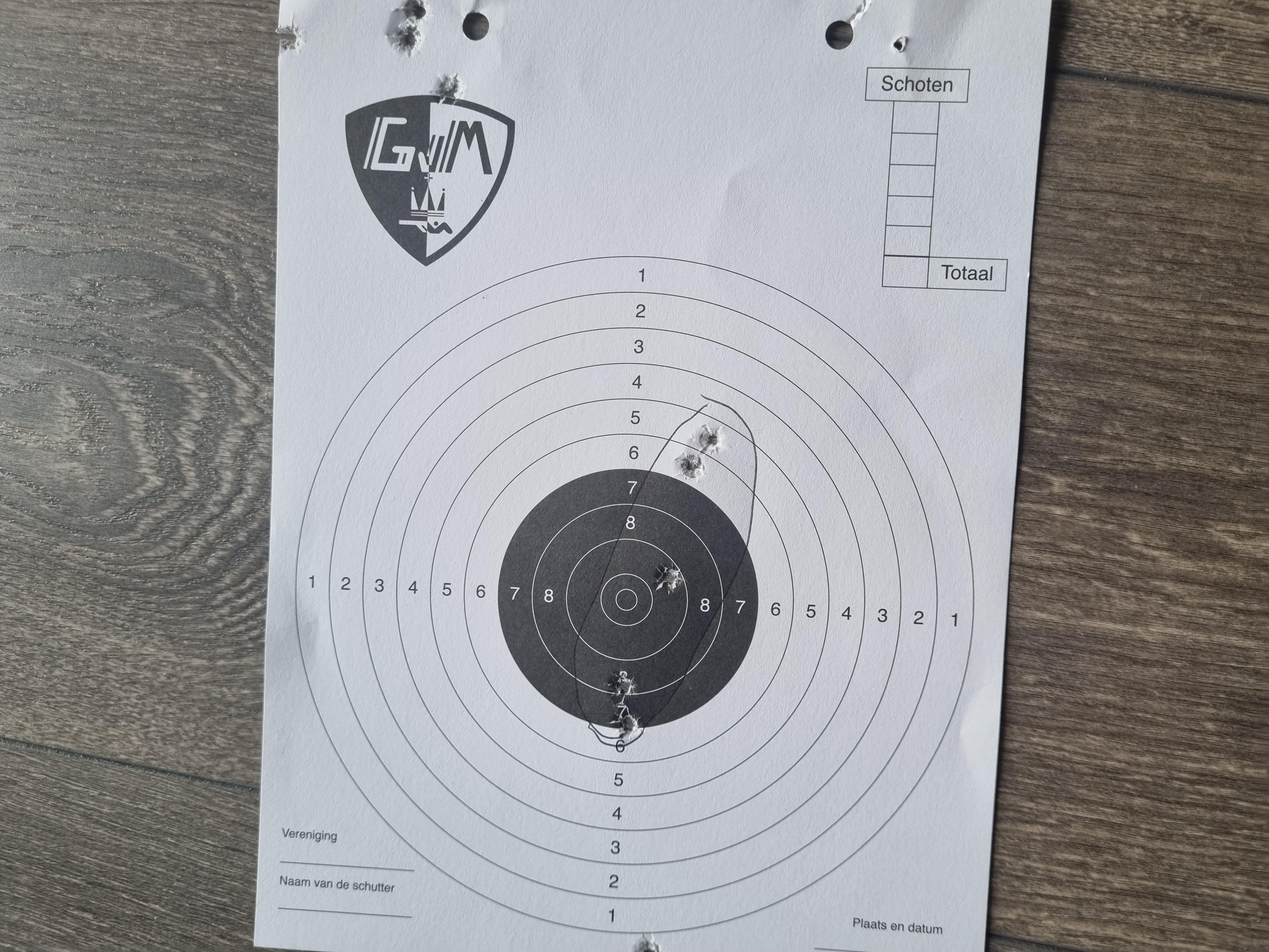hole: (626, 505, 669, 531), (1122, 325, 1167, 349), (473, 490, 519, 513), (282, 456, 321, 482), (1197, 289, 1231, 317), (334, 456, 374, 479), (666, 522, 704, 544), (1241, 297, 1269, 320), (0, 470, 20, 498)
